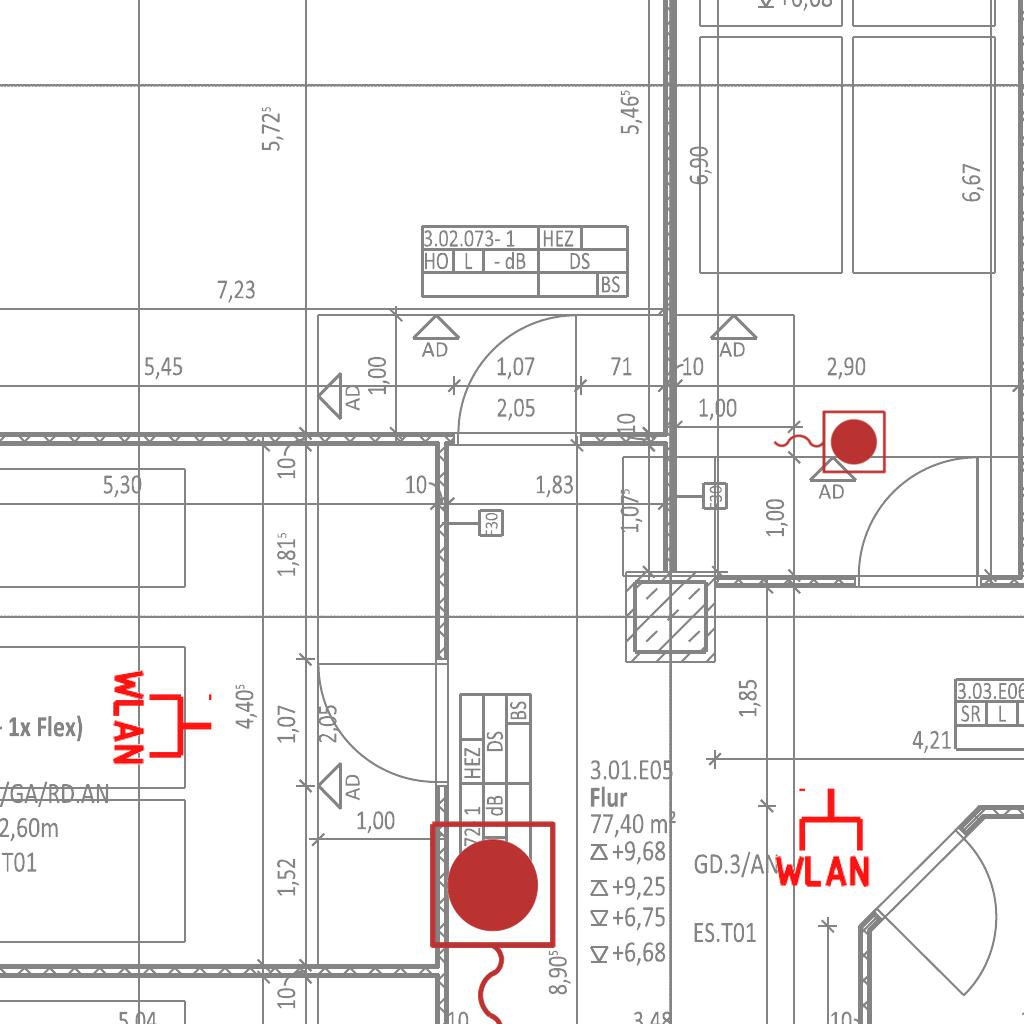WLAN: (111, 665, 216, 769), (770, 784, 874, 889)
Zugtaster: (419, 813, 563, 1024), (768, 405, 890, 477)
